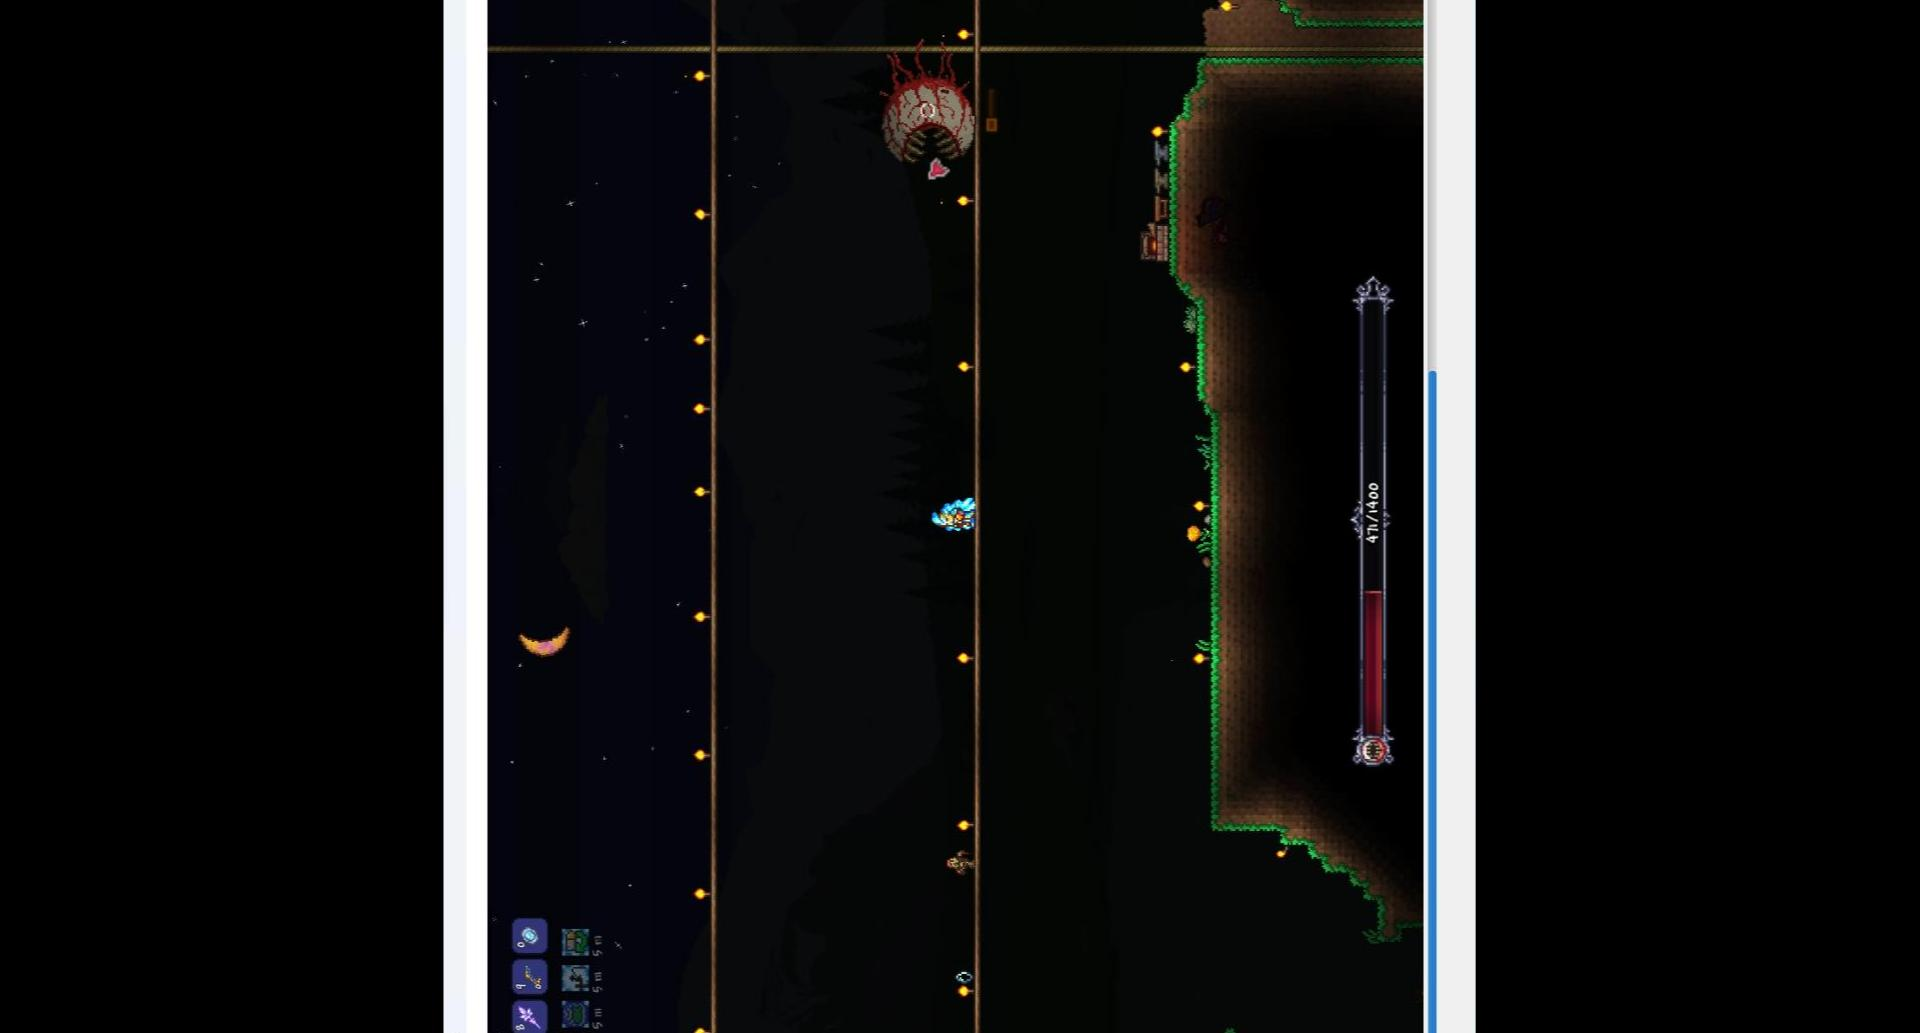anvil: (1151, 137, 1175, 165), (1149, 164, 1170, 195)
eyeC: (876, 37, 993, 160)
lens: (951, 968, 974, 982)
